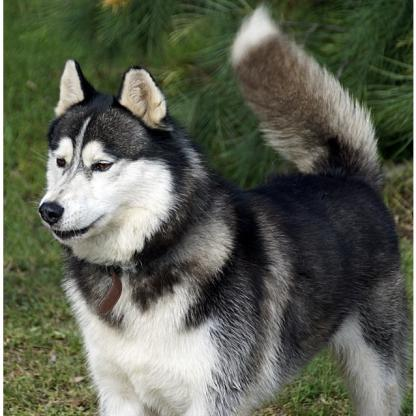husky: (38, 10, 406, 416)
